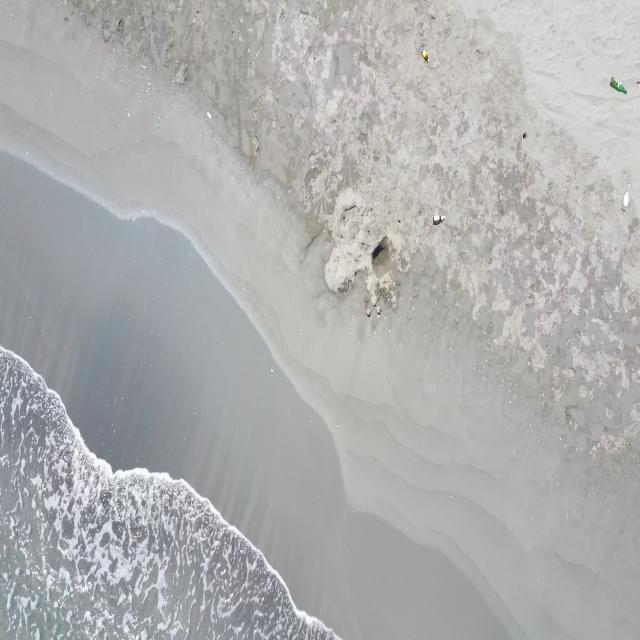glass: (610, 76, 627, 95), (622, 179, 631, 212), (432, 215, 447, 226), (421, 48, 430, 64)
